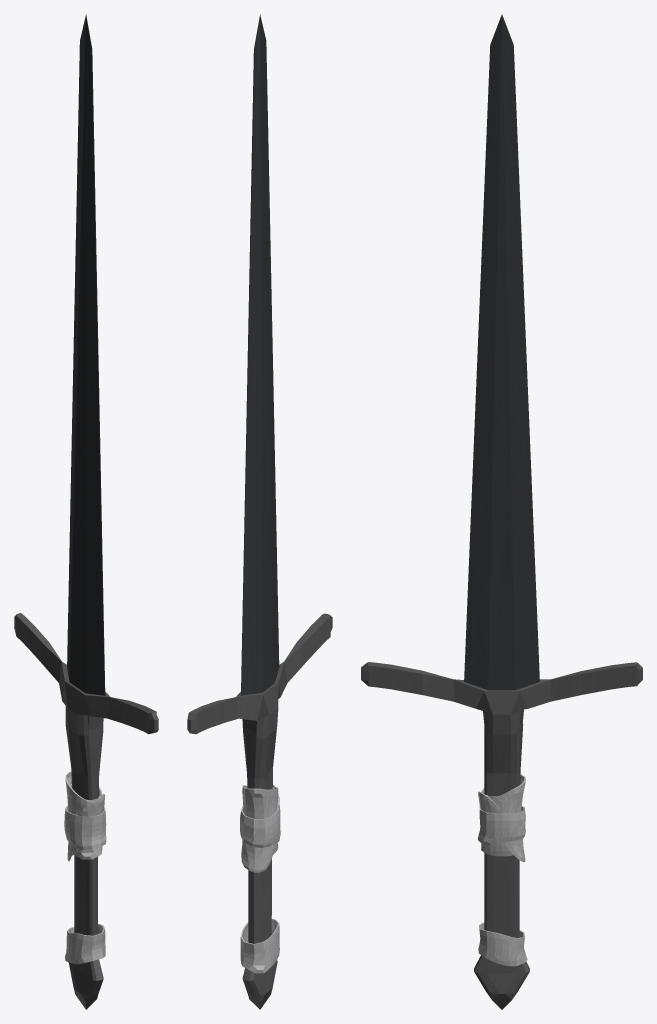
File: Sword.fbx
The picture shows the model from 3 angles, left to right: view 1: azimuth 30°, elevation 25°; view 2: azimuth 150°, elevation 25°; view 3: azimuth 270°, elevation 25°; orthographic projection.
Parts seen in each view (by area): view 1: Blade, Mesh.001, Mesh.002, Mesh, Mesh.003; view 2: Blade, Mesh.001, Mesh.002, Mesh.003; view 3: Blade, Mesh.001.
Boxes of the visible parts, x1=… form: Blade: x1=14, y1=14, x2=158, y2=1009; Mesh.001: x1=64, y1=805, x2=106, y2=964; Mesh.002: x1=65, y1=772, x2=102, y2=828; Mesh: x1=68, y1=783, x2=102, y2=859; Mesh.003: x1=67, y1=794, x2=104, y2=861; Blade: x1=187, y1=14, x2=332, y2=1009; Mesh.001: x1=240, y1=805, x2=280, y2=973; Mesh.002: x1=242, y1=785, x2=278, y2=818; Mesh.003: x1=241, y1=784, x2=279, y2=872; Blade: x1=361, y1=14, x2=642, y2=1009; Mesh.001: x1=478, y1=806, x2=527, y2=966.
Bounding box in the file's own units: 26.51 × 780 × 200.
3 materials, 3 textured.
